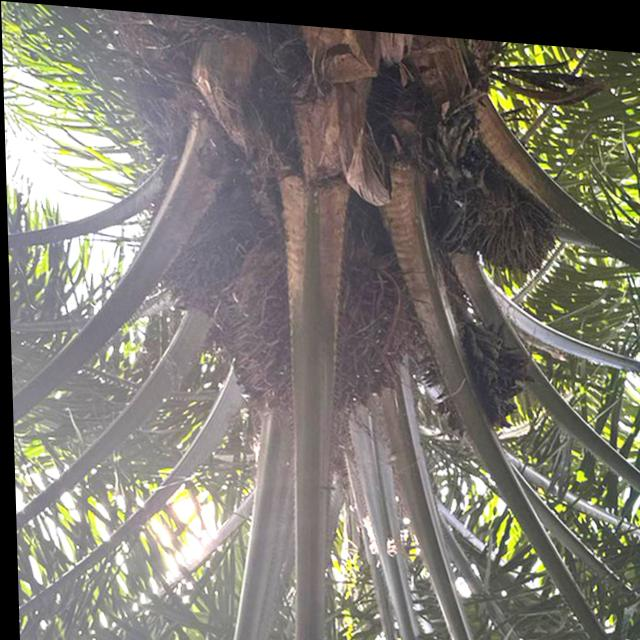ripe: (229, 238, 418, 424)
